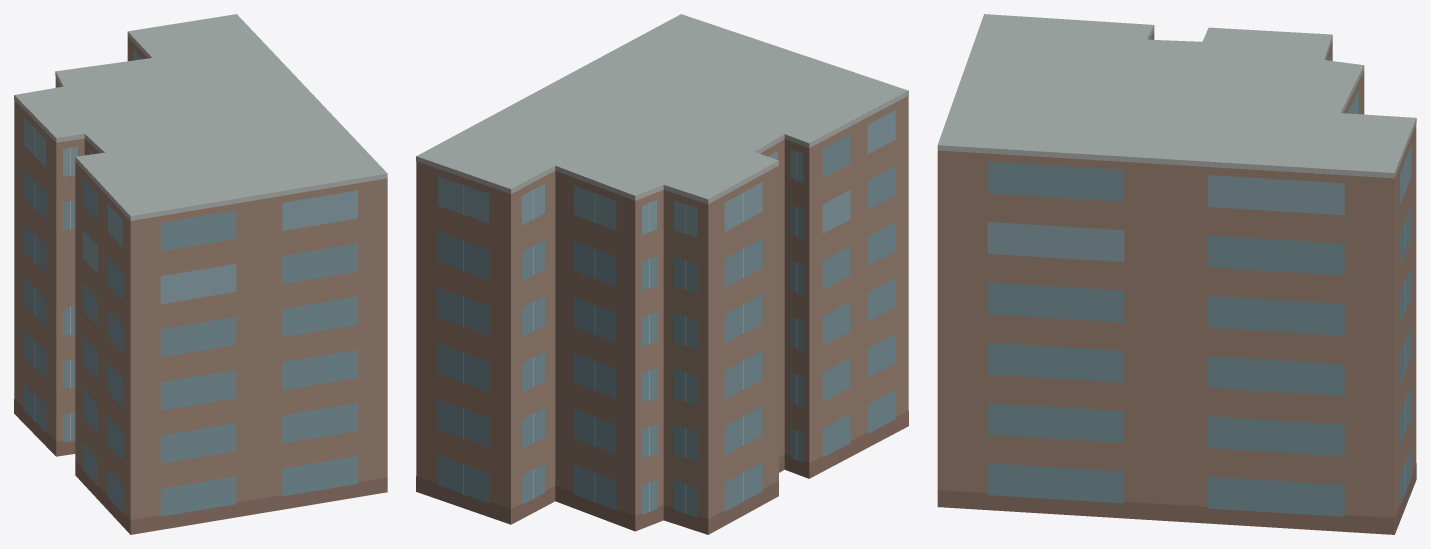
File: survey-upis-32868193.glb
The picture shows the model from 3 angles, left to right: view 1: azimuth 30°, elevation 25°; view 2: azimuth 150°, elevation 25°; view 3: azimuth 270°, elevation 25°; orthographic projection. The views are drawn at different scales.
Parts seen in each view (by area): view 1: survey-upis-32868193.tmp; view 2: survey-upis-32868193.tmp; view 3: survey-upis-32868193.tmp.
Part boxes in pixels (left/top/right/bottom): survey-upis-32868193.tmp: left=14, top=14, right=387, bottom=534; survey-upis-32868193.tmp: left=416, top=14, right=908, bottom=534; survey-upis-32868193.tmp: left=937, top=14, right=1416, bottom=534.
Size of the model in its own units: 15.66 by 16.6 by 19.92.
